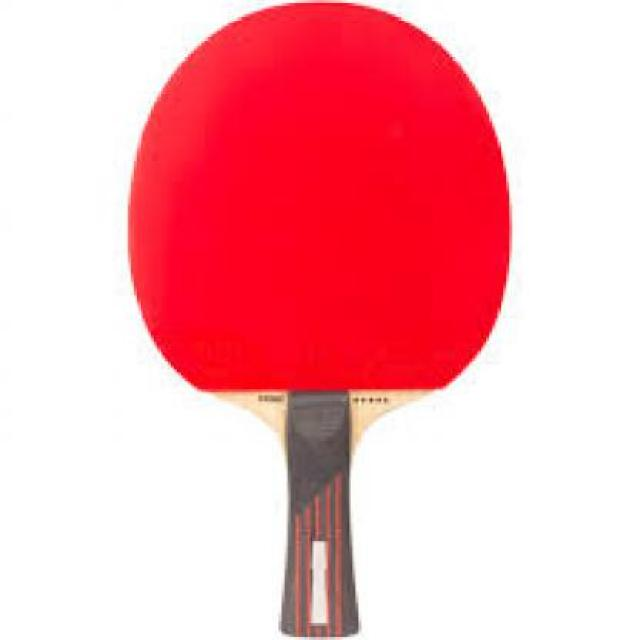table_tennis_racket: (116, 0, 519, 434)
